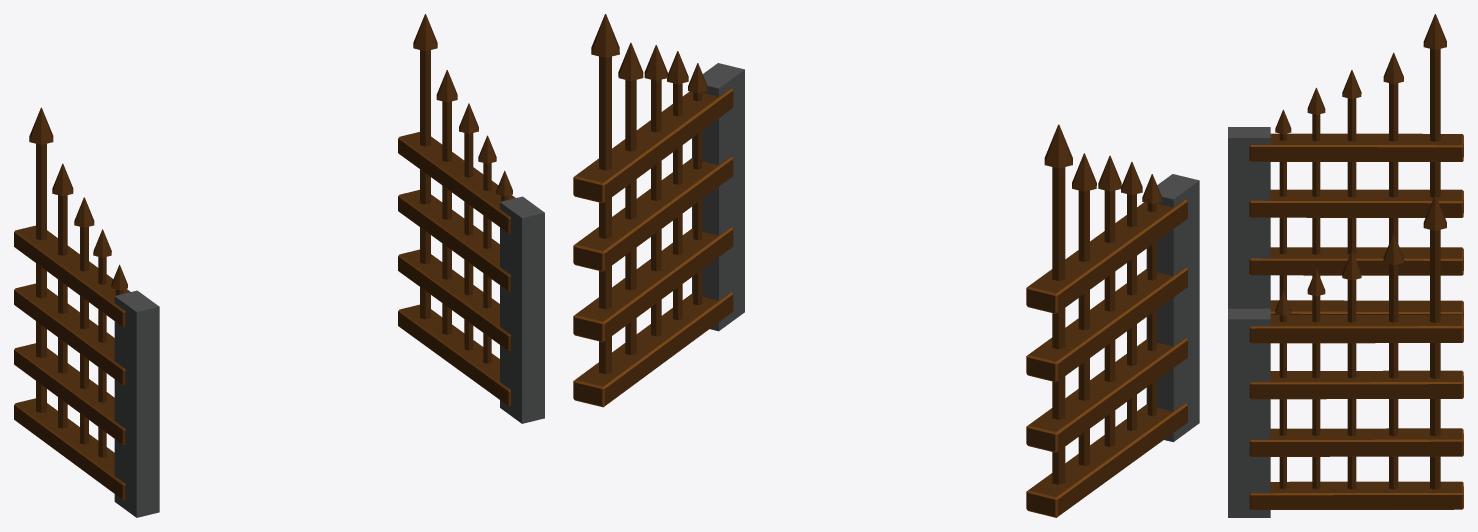
Rendered from GraveYard_Door.fbx.
3 views of the same model, side by side, from view 1: azimuth 30°, elevation 25°; view 2: azimuth 150°, elevation 25°; view 3: azimuth 270°, elevation 25° (orthographic). The views are drawn at different scales.
Visible parts, largest first — view 1: GraveYard_Door; view 2: GraveYard_Door; view 3: GraveYard_Door.
Boxes of the visible parts, box(x1,y1,x2,y2) form: GraveYard_Door: box(14, 14, 544, 517); GraveYard_Door: box(573, 14, 1199, 517); GraveYard_Door: box(1228, 14, 1463, 517).
Bounding box in the file's own units: 585 × 445 × 300.
